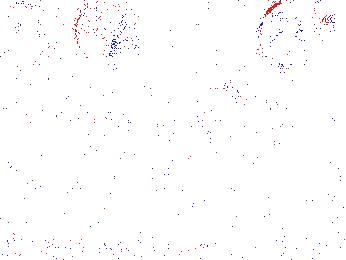moon jellyfish: (193, 82, 285, 159), (256, 1, 334, 70), (122, 91, 187, 156), (1, 3, 60, 63), (74, 1, 129, 64), (21, 76, 89, 120)
